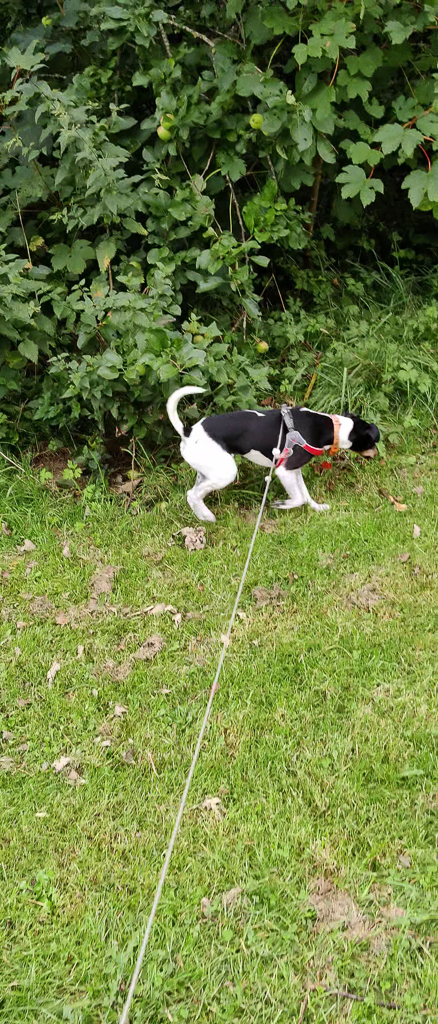Dog: (161, 379, 391, 535)
